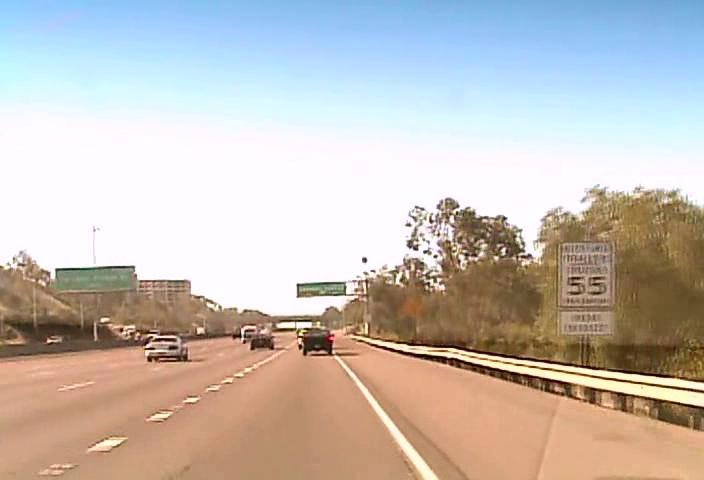truckSpeedLimit55: (556, 240, 616, 308)
